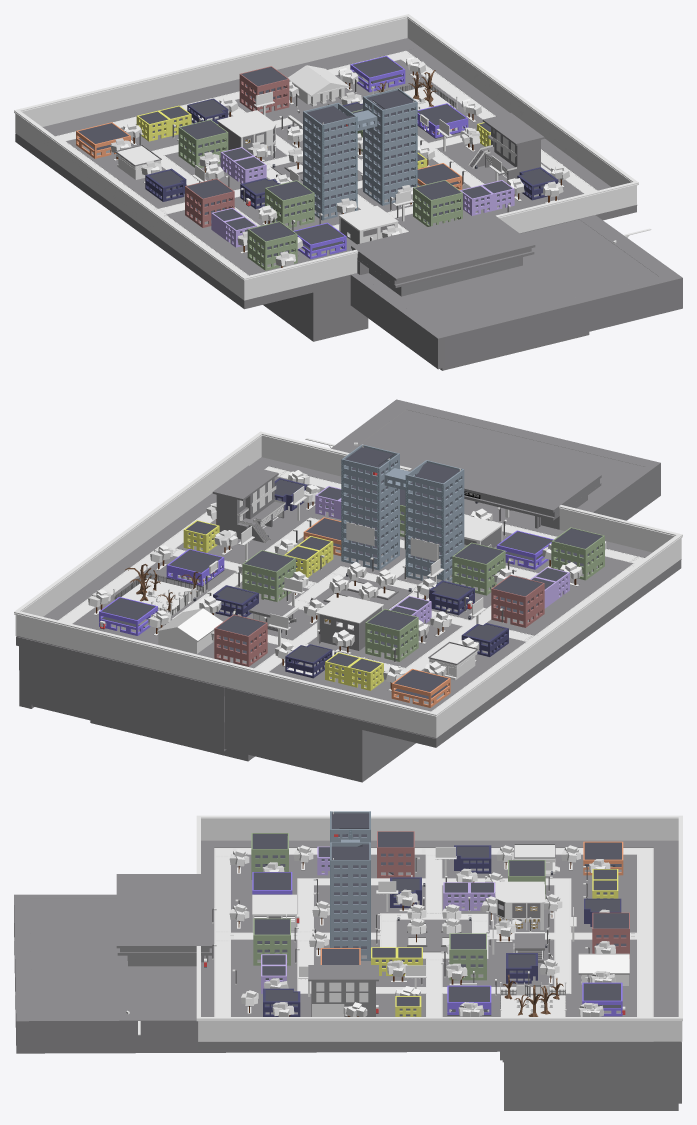
File: district.glb
3 renders of one model, top to bottom at view 1: azimuth 30°, elevation 25°; view 2: azimuth 150°, elevation 25°; view 3: azimuth 270°, elevation 25°, orthographic. The views are drawn at different scales.
Visible parts, largest first — view 1: Thing1053, Thing447, Thing1329, Thing984, Thing258, Thing257, Thing1338, Thing1332, Thing1012, Thing452, Thing439, Thing271 (+56 smaller); view 2: Thing470, Thing1329, Thing465, Thing1053, Thing984, Thing258, Thing257, Thing1338, Thing1332, Thing271, Thing449, Thing1043 (+63 smaller); view 3: Thing1053, Thing1332, Thing450, Thing1338, Thing471, Thing984, Thing1012, Thing258, Thing271, Thing773, Thing436, Thing89 (+70 smaller).
Part boxes in pixels (<box>): Thing1053: <box>393,243,658,331</box>; Thing447: <box>436,273,679,367</box>; Thing1329: <box>23,19,407,126</box>; Thing984: <box>351,212,535,280</box>; Thing258: <box>354,88,417,205</box>; Thing257: <box>303,102,357,220</box>; Thing1338: <box>15,114,243,299</box>; Thing1332: <box>407,19,630,186</box>; Thing1012: <box>42,38,419,136</box>; Thing452: <box>263,283,368,341</box>; Thing439: <box>350,273,444,369</box>; Thing271: <box>468,113,551,182</box>; Thing470: <box>19,637,226,751</box>; Thing1329: <box>17,615,433,737</box>; Thing465: <box>224,696,364,782</box>; Thing1053: <box>358,410,644,502</box>; Thing984: <box>408,438,601,512</box>; Thing258: <box>341,444,414,570</box>; Thing257: <box>405,460,464,583</box>; Thing1338: <box>433,538,681,738</box>; Thing1332: <box>15,437,261,636</box>; Thing271: <box>212,465,285,543</box>; Thing449: <box>224,678,519,747</box>; Thing1043: <box>43,457,275,620</box>; Thing1053: <box>30,898,129,1012</box>; Thing1332: <box>198,1021,682,1041</box>; Thing450: <box>16,1012,503,1053</box>; Thing1338: <box>201,820,678,840</box>; Thing471: <box>504,1049,678,1110</box>; Thing984: <box>116,874,211,948</box>; Thing1012: <box>653,847,680,1042</box>; Thing258: <box>330,832,370,960</box>; Thing271: <box>308,965,378,1016</box>; Thing773: <box>128,966,196,1012</box>; Thing436: <box>198,1042,570,1049</box>; Thing89: <box>569,1049,678,1075</box>.
Bounding box in the file's own units: 197 × 77.71 × 274.
47 materials, 3 textured.
